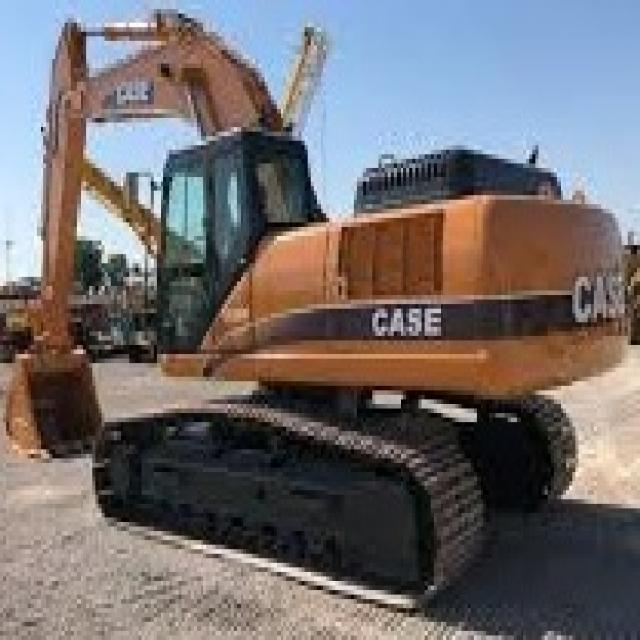excavator: (86, 109, 640, 631)
